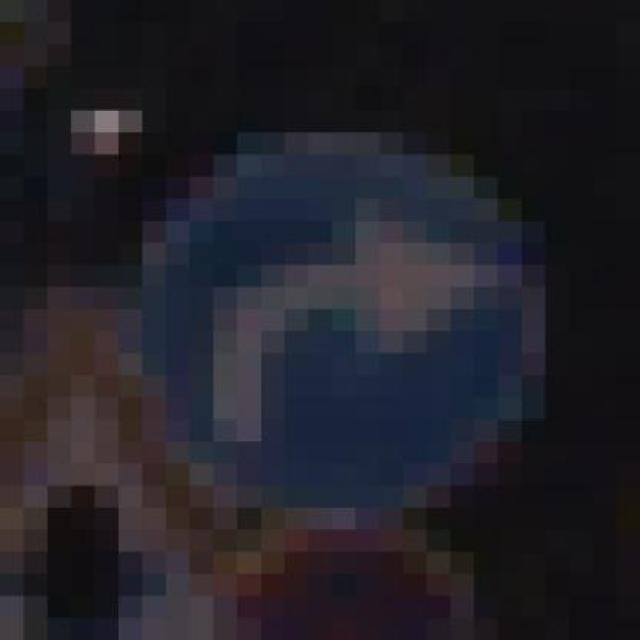Turn right ahead: (95, 88, 593, 530)
